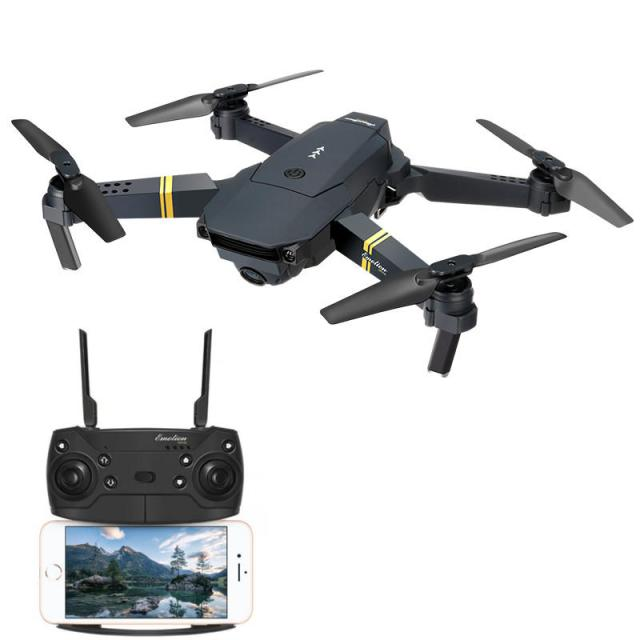drone: (11, 73, 635, 361)
